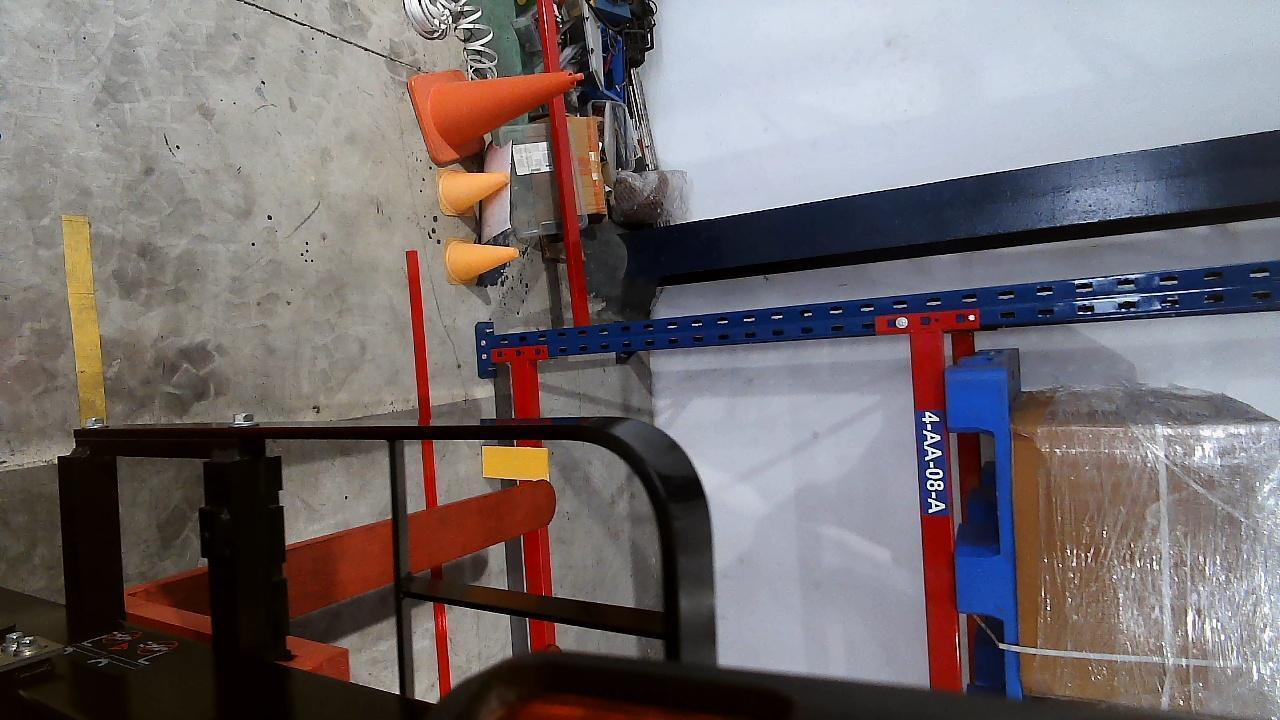red_line: (400, 252, 452, 500)
yellow_line: (60, 214, 106, 426)
